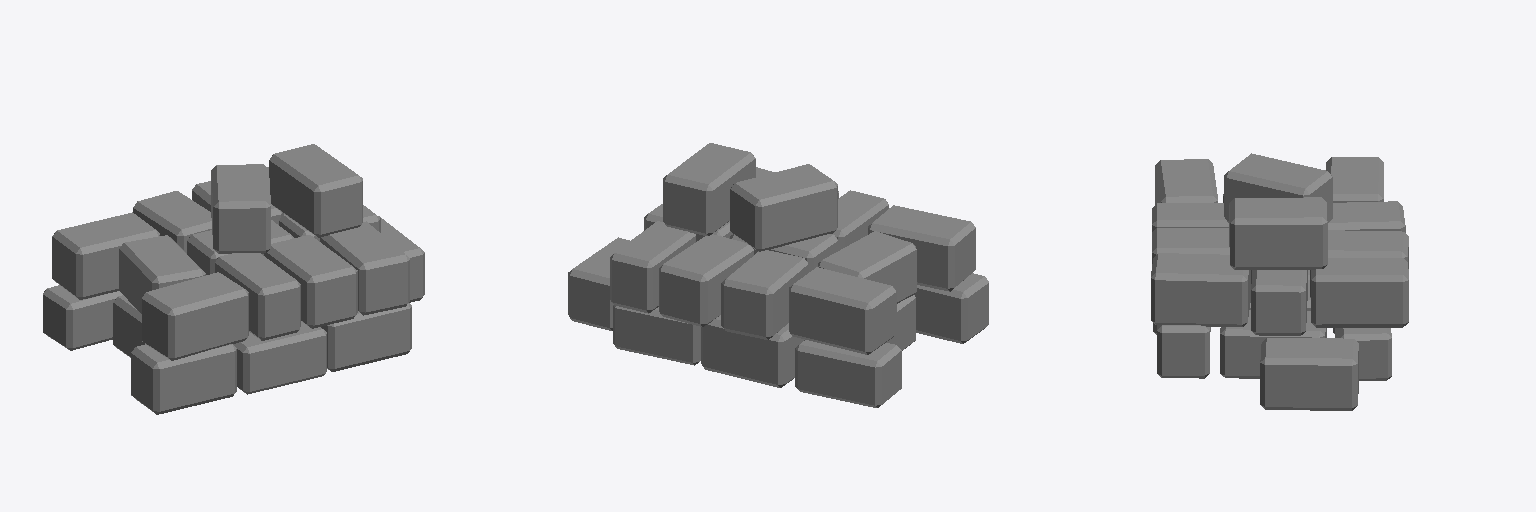
Rendered from BrickPile.obj.
3 renders of one model, left to right at view 1: azimuth 30°, elevation 25°; view 2: azimuth 150°, elevation 25°; view 3: azimuth 270°, elevation 25°, orthographic.
Visible parts, largest first — view 1: brick; view 2: brick; view 3: brick.
Boxes of the visible parts, x1=… form: brick: x1=43, y1=144, x2=424, y2=414; brick: x1=568, y1=143, x2=988, y2=407; brick: x1=1151, y1=153, x2=1408, y2=410.
Bounding box in the file's own units: 136 × 61.45 × 93.17.